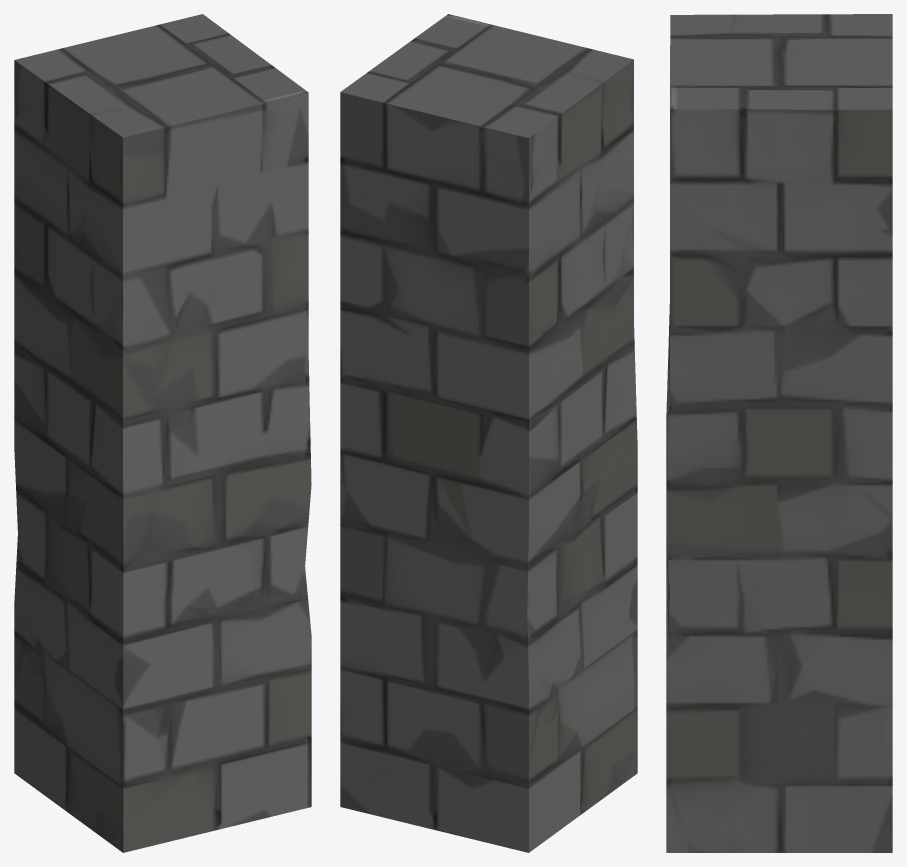
Rendered from SM_Env_Wall_Pillar_Large_01_Texture.glb.
The picture shows the model from 3 angles, left to right: view 1: azimuth 30°, elevation 25°; view 2: azimuth 150°, elevation 25°; view 3: azimuth 270°, elevation 25°; orthographic projection. The views are drawn at different scales.
Visible parts, largest first — view 1: SM_Env_Wall_Pillar_Large_01_Texture; view 2: SM_Env_Wall_Pillar_Large_01_Texture; view 3: SM_Env_Wall_Pillar_Large_01_Texture.
Part boxes in pixels (left/top/right/bottom): SM_Env_Wall_Pillar_Large_01_Texture: left=14, top=14, right=311, bottom=852; SM_Env_Wall_Pillar_Large_01_Texture: left=340, top=14, right=637, bottom=852; SM_Env_Wall_Pillar_Large_01_Texture: left=666, top=14, right=892, bottom=852.
Bounding box in the file's own units: 0.0196 × 0.0711 × 0.0196.
Materials: 1 (1 with a texture image).
